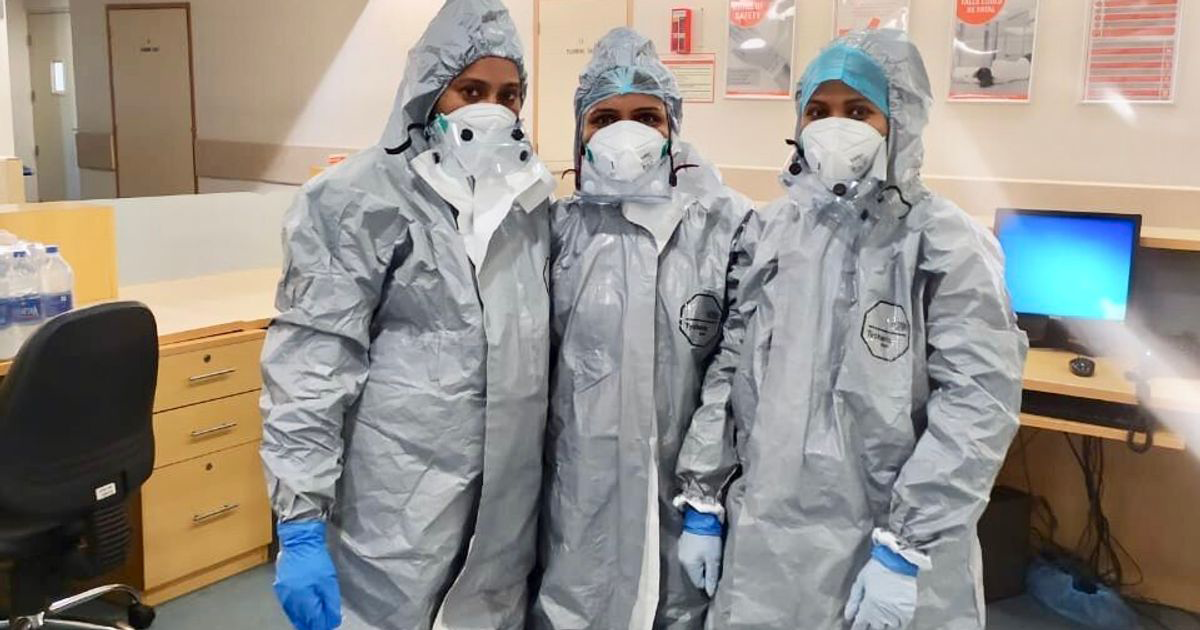Coverall: (678, 28, 1014, 628), (261, 1, 546, 627), (549, 28, 744, 621)
Gloves: (271, 521, 344, 629), (845, 549, 919, 628), (677, 505, 726, 597)
Goggles: (777, 162, 876, 223), (433, 128, 534, 175), (580, 175, 674, 209)
with_mask: (801, 98, 886, 191), (586, 109, 660, 178), (444, 84, 520, 130)
